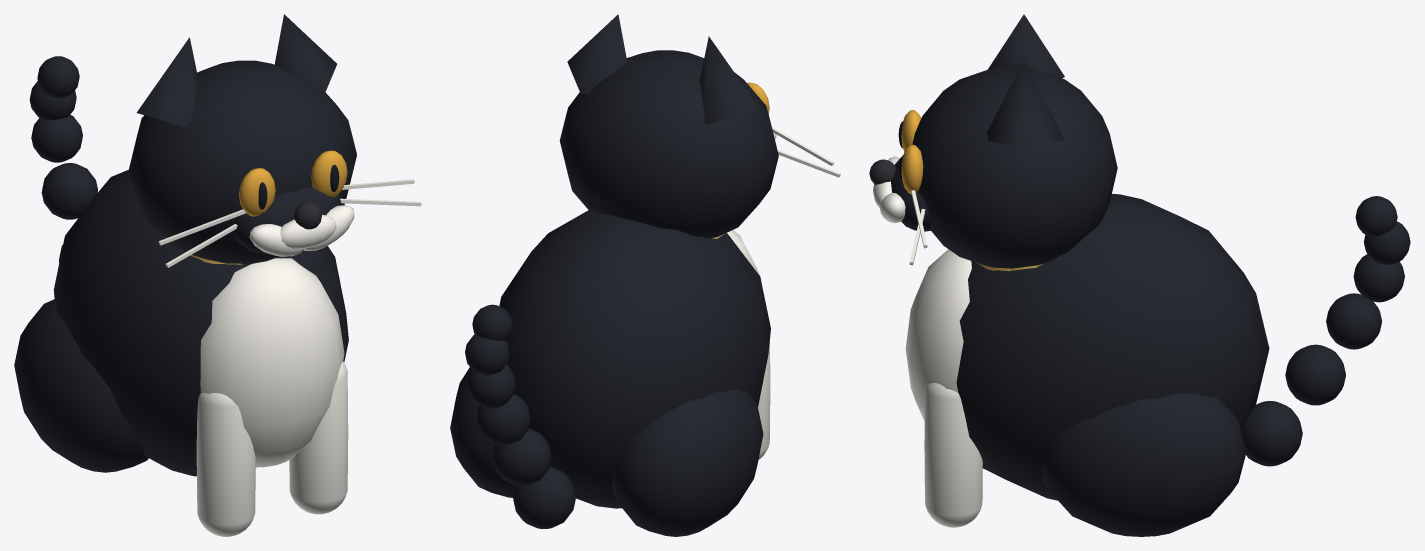
Rendered from tuxedo.glb.
3 views of the same model, side by side, from view 1: azimuth 30°, elevation 25°; view 2: azimuth 150°, elevation 25°; view 3: azimuth 270°, elevation 25° (orthographic). The views are drawn at different scales.
Visible parts, largest first — view 1: body, ear_-1, chest, paw_R_leg, tail, paw_L_leg, lip, eye_-1, muzzle, whisker_-1_-1, nose; view 2: body, ear_-1, tail, paw_R_leg, whisker_-1_-1; view 3: body, ear_-1, tail, chest, paw_L_leg, eye_-1, muzzle, lip.
Boxes of the visible parts, bbox=[...] form: body: bbox=[14, 170, 348, 476]; ear_-1: bbox=[128, 14, 356, 264]; chest: bbox=[200, 258, 344, 467]; paw_R_leg: bbox=[196, 393, 255, 536]; tail: bbox=[29, 56, 97, 262]; paw_L_leg: bbox=[289, 361, 348, 514]; lip: bbox=[249, 205, 354, 256]; eye_-1: bbox=[239, 150, 347, 216]; muzzle: bbox=[233, 187, 341, 255]; whisker_-1_-1: bbox=[159, 179, 421, 267]; nose: bbox=[294, 201, 321, 229]; body: bbox=[450, 209, 770, 536]; ear_-1: bbox=[559, 14, 778, 238]; tail: bbox=[465, 304, 575, 528]; paw_R_leg: bbox=[758, 341, 770, 459]; whisker_-1_-1: bbox=[771, 126, 840, 177]; body: bbox=[956, 194, 1269, 536]; ear_-1: bbox=[912, 14, 1117, 268]; tail: bbox=[1240, 196, 1410, 466]; chest: bbox=[905, 249, 971, 420]; paw_L_leg: bbox=[924, 382, 982, 527]; eye_-1: bbox=[901, 110, 923, 194]; muzzle: bbox=[891, 155, 931, 231]; lip: bbox=[873, 156, 905, 222].
Bounding box in the file's own units: 0.28 × 0.4388 × 0.462.
